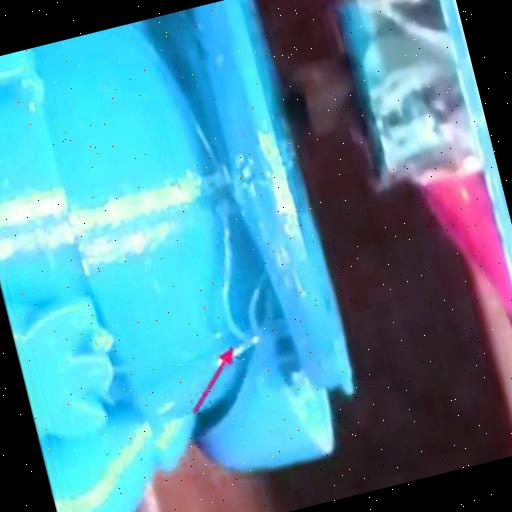spaghetti: (186, 174, 298, 354)
